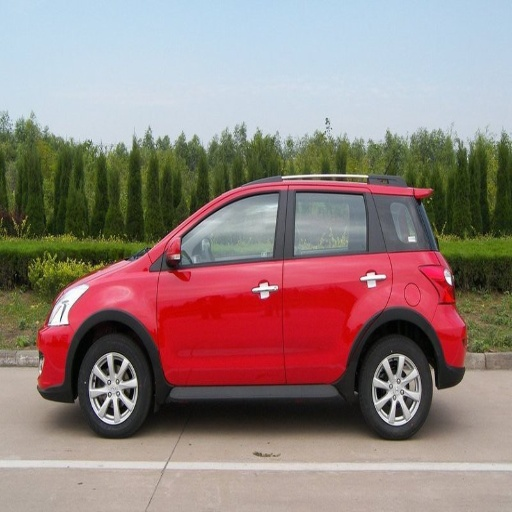back_left_door: (285, 185, 390, 382)
front_left_door: (157, 185, 287, 379)
